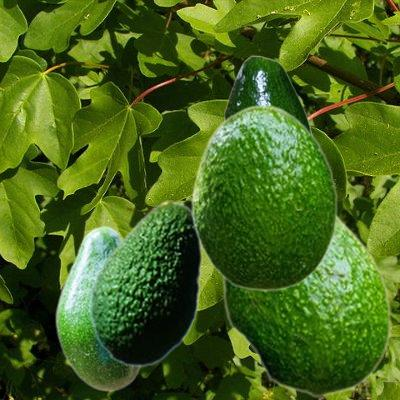avocado: (221, 215, 390, 396), (191, 104, 337, 290), (89, 200, 201, 366), (54, 225, 141, 391), (224, 55, 312, 131)
